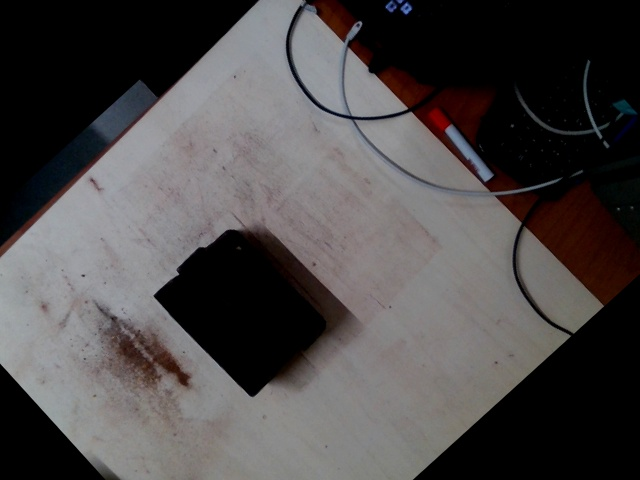brick-side: (174, 247, 296, 372), (204, 229, 324, 353), (153, 277, 272, 397)
